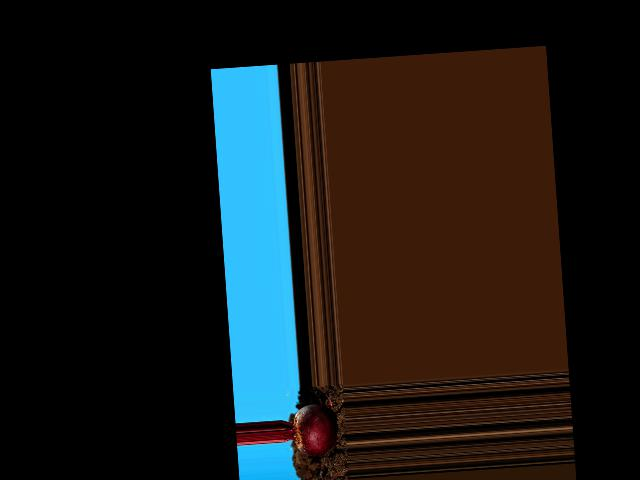beet: (281, 402, 339, 458)
